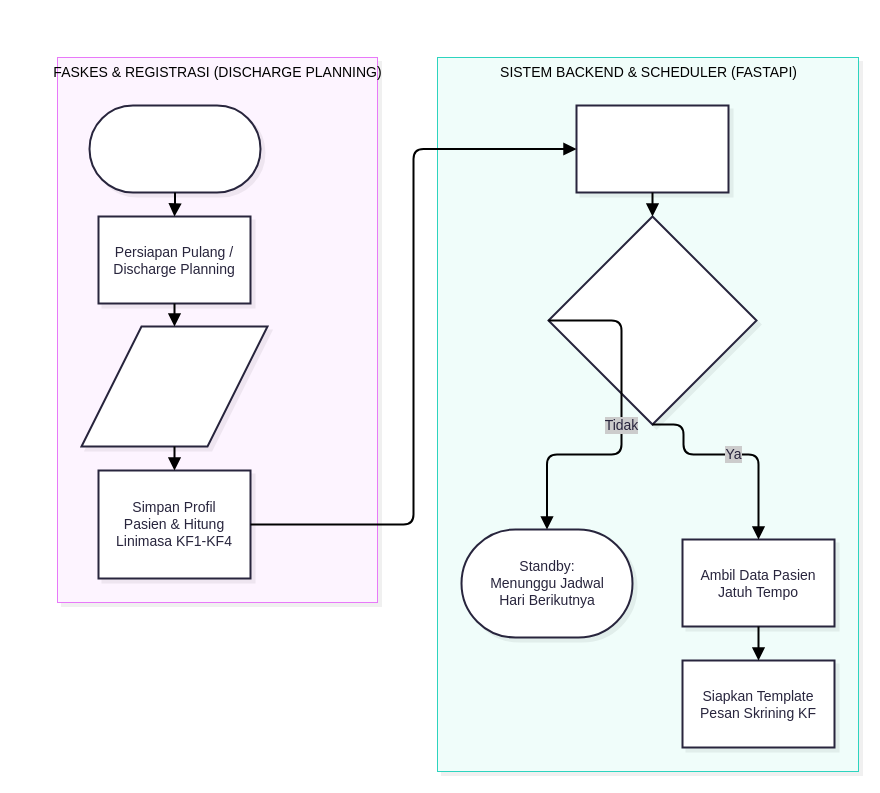
The diagram is 880 pixels wide and 793 high, and some of its shapes have lost their labels. Here are the shapes that lost their labels. From the top down, the centre of each, then its label:
point (176, 150): Mulai: Pasien Melahirkan di RS / Puskesmas
point (654, 150): Scheduler Harian Berjalan Jam 08.00 WIB
point (654, 322): Apakah Ada Jadwal KF Hari Ini?
point (176, 388): Bidan & Pendamping Input Data: No WA Ibu & No Darurat Suami
